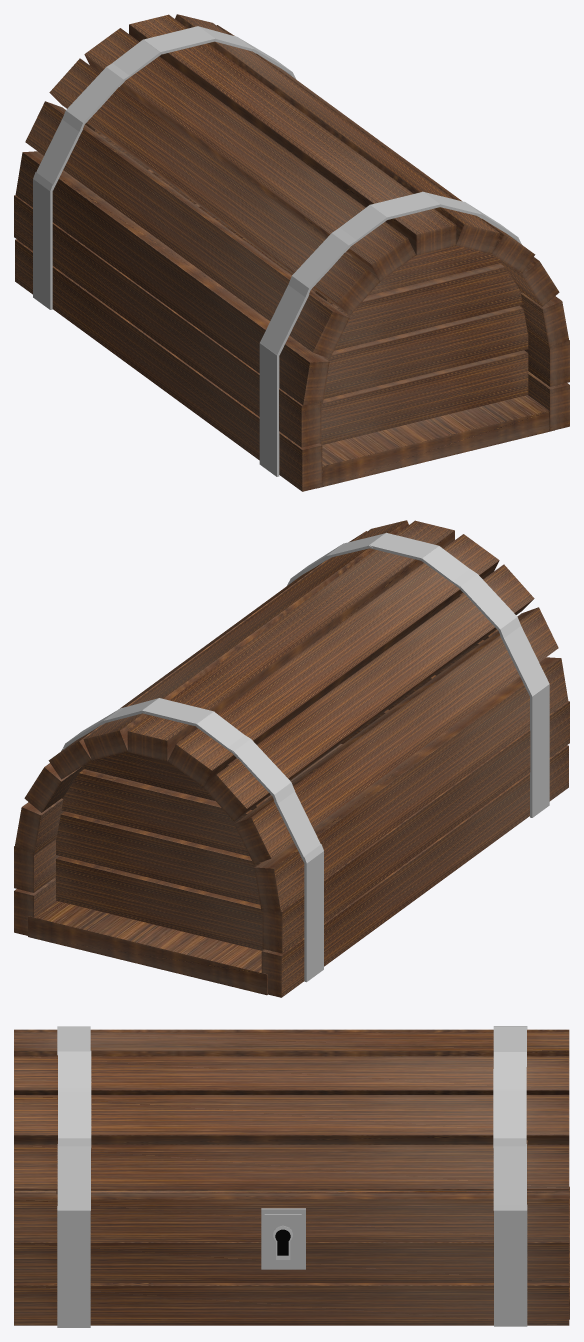
The model's file is chest.FBX.
The picture shows the model from 3 angles, top to bottom: view 1: azimuth 30°, elevation 25°; view 2: azimuth 150°, elevation 25°; view 3: azimuth 270°, elevation 25°; orthographic projection. The views are drawn at different scales.
Parts seen in each view (by area): view 1: Box008, Box009, Box010, Box007, Box011, Box005, Box006, Box003, Box024, Box025, Box026, Box013 (+16 smaller); view 2: Box008, Box009, Box010, Box007, Box011, Box006, Box005, Box003, Box019, Box021, Box022, Box013 (+16 smaller); view 3: Box012, Box014, Box015, Box017, Box013, Box016, Box011, Box031, Box030, Box035, Box038, Box034 (+9 smaller).
Boxes of the visible parts, x1,y1,x2,y2 form: Box008: (25, 101, 349, 358); Box009: (49, 58, 380, 315); Box010: (84, 28, 415, 281); Box007: (15, 151, 329, 405); Box011: (129, 14, 456, 255); Box005: (15, 239, 322, 491); Box006: (14, 195, 321, 447); Box003: (241, 238, 554, 488); Box024: (320, 350, 528, 444); Box025: (322, 305, 528, 398); Box026: (332, 263, 522, 350); Box013: (175, 14, 500, 254); Box008: (234, 607, 558, 864); Box009: (203, 564, 534, 821); Box010: (168, 534, 499, 787); Box007: (254, 657, 568, 911); Box011: (127, 520, 454, 761); Box006: (262, 701, 569, 953); Box005: (261, 745, 568, 997); Box003: (28, 744, 342, 995); Box019: (55, 856, 263, 950); Box021: (56, 811, 261, 904); Box022: (61, 769, 252, 856); Box013: (83, 520, 408, 760); Box012: (14, 1095, 569, 1144); Box014: (14, 1144, 569, 1190); Box015: (14, 1193, 569, 1241); Box017: (14, 1283, 569, 1325); Box013: (14, 1056, 569, 1094); Box016: (14, 1242, 569, 1282); Box011: (14, 1032, 569, 1056); Box031: (494, 1204, 527, 1326); Box030: (57, 1206, 90, 1327); Box035: (57, 1144, 90, 1210); Box038: (493, 1084, 526, 1148); Box034: (493, 1144, 526, 1210).
Size of the model in its own units: 27.63 by 22.34 by 50.07.
